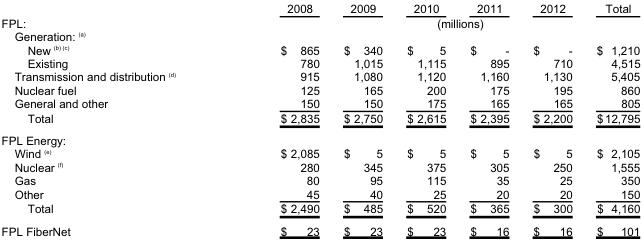table: (0, 0, 639, 238)
table column: (0, 0, 227, 238), (227, 0, 330, 238), (330, 0, 394, 238), (394, 0, 457, 238), (457, 0, 520, 238), (520, 0, 583, 238), (583, 0, 639, 238)
table column header: (0, 0, 639, 15)
table projected row header: (0, 129, 639, 146), (0, 29, 639, 42)
table row: (0, 110, 639, 129), (0, 200, 639, 219), (0, 219, 639, 238), (0, 129, 639, 146), (0, 0, 639, 15), (0, 15, 639, 29), (0, 42, 639, 56), (0, 69, 639, 83), (0, 96, 639, 110), (0, 146, 639, 160), (0, 186, 639, 200), (0, 29, 639, 42), (0, 56, 639, 69), (0, 83, 639, 96), (0, 160, 639, 173), (0, 173, 639, 186)
table spanning cell: (227, 15, 639, 29)
